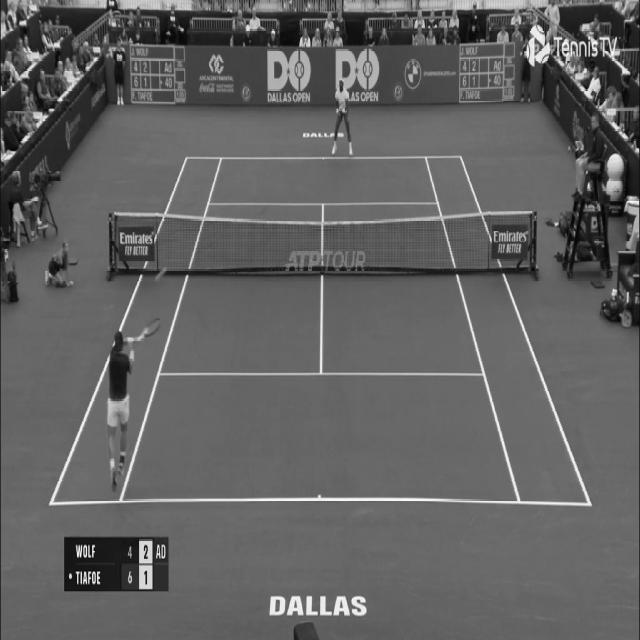tennis-court: (49, 155, 593, 506)
